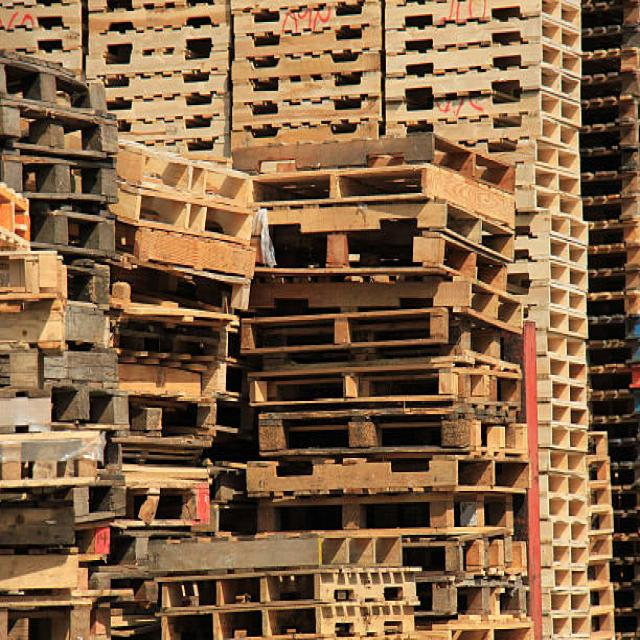Wooden-Pallets: (239, 451, 537, 508), (148, 533, 402, 585), (137, 143, 254, 205), (534, 40, 582, 88), (545, 415, 594, 458), (544, 255, 595, 294), (528, 165, 584, 197), (545, 351, 591, 388)
